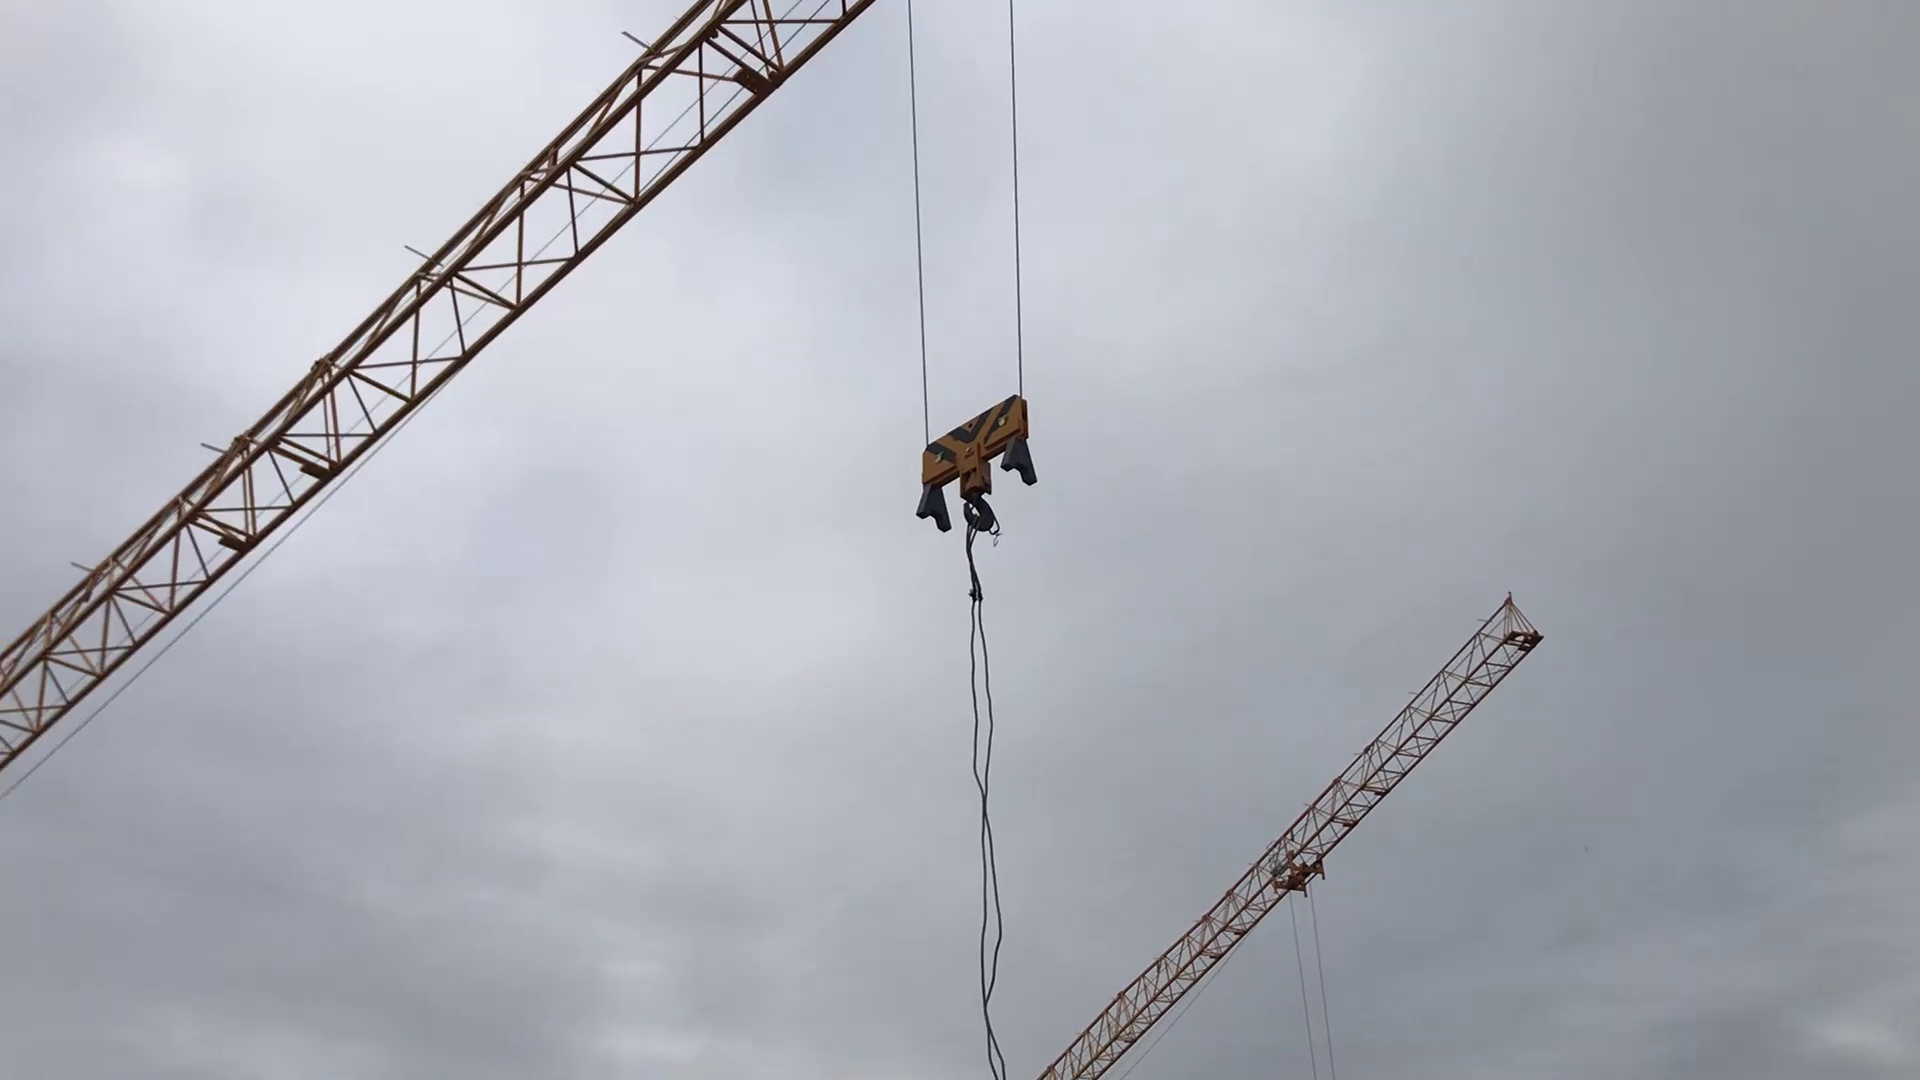hook: (914, 386, 1055, 549)
